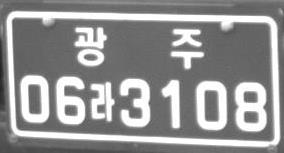0: (195, 79, 227, 131), (18, 73, 50, 123)
1: (158, 79, 188, 129)
3: (119, 77, 151, 128)
6: (55, 75, 86, 125)
8: (233, 80, 268, 132)
광주_D: (73, 25, 204, 69)
라: (90, 80, 115, 122)
